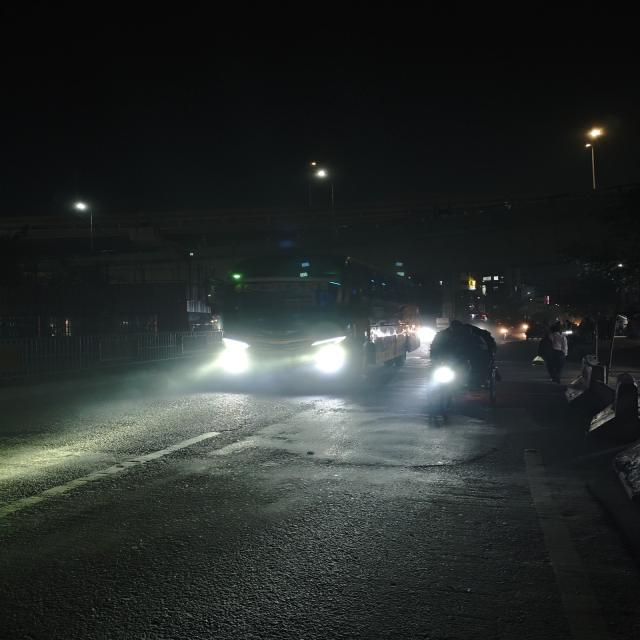bus: (210, 270, 423, 398)
motorcycle: (420, 317, 505, 426)
pedestrian: (533, 321, 572, 384), (612, 371, 640, 424)
rickshaw: (420, 317, 504, 425)
